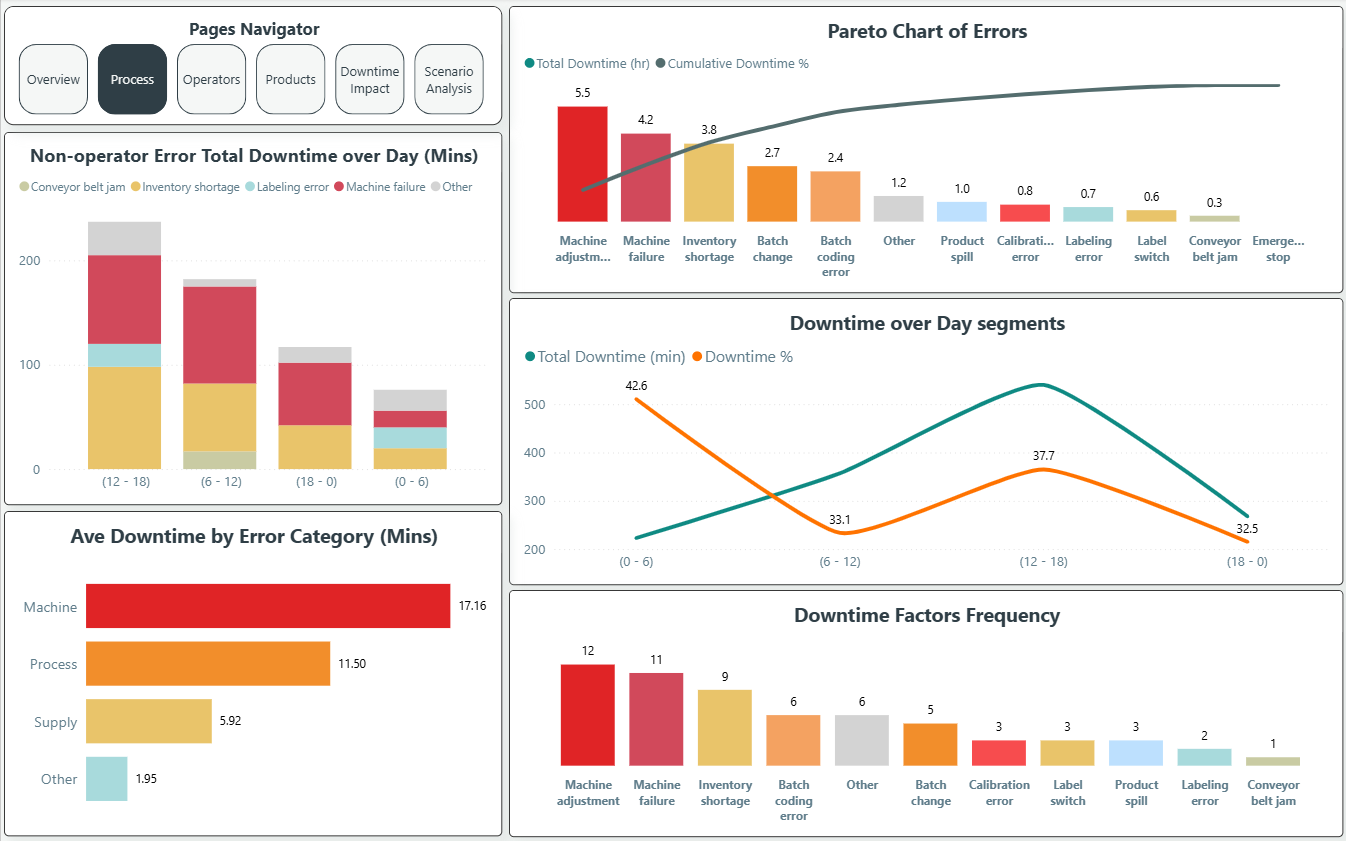

The page's visual inventory and layout, read from the dashboard file:
{"tool":"powerbi","page":{"name":"Process","canvas":[1380,870],"ordinal":1},"visuals":[{"type":"lineStackedColumnComboChart","title":"Pareto Chart of Errors","fields":{"Y":["#Measures.Total Downtime (hr)"],"Y2":["#Measures.Cumulative Downtime %"],"Category":["Downtime factors.Description"]},"box":[519.7,8.3,854.1,294],"z":0},{"type":"columnChart","title":"Non-operator Error Total Downtime over Day (Mins)","fields":{"Category":["Line productivity.Day segmentation"],"Series":["Downtime factors.Description"],"Y":["#Measures.Total Downtime (min)"]},"box":[3.1,136.7,510.4,382],"z":1000},{"type":"lineChart","title":"Downtime over Day segments","fields":{"Category":["Line productivity.Day segmentation"],"Y2":["#Measures.downtime percentage"],"Y":["#Measures.Total Downtime (min)"]},"box":[519.7,307.1,854.1,294],"z":2000},{"type":"barChart","title":"Ave Downtime by Error Category (Mins)","fields":{"Category":["Downtime factors.Cause Category"],"Y":["#Measures.Ave Downtime per Batch"]},"box":[3.1,524.9,510.4,333.4],"z":3000},{"type":"columnChart","title":"Downtime Factors Frequency","fields":{"Category":["Downtime factors.Description"],"Y":["#Measures.Downtime Events"]},"box":[520,605.9,853.6,252.8],"z":6000},{"type":"pageNavigator","title":"Pages Navigator","box":[3.1,8.3,510.4,122.2],"z":7000}]}

Visuals, with their boxes in screenshot pixels (x1, y1, x2, y2), scaled from the page's 1380x870 canvas onto the 1346x841 screenshot:
"Pareto Chart of Errors" lineStackedColumnComboChart: (left=507, top=8, right=1340, bottom=292)
"Non-operator Error Total Downtime over Day (Mins)" columnChart: (left=3, top=132, right=501, bottom=501)
"Downtime over Day segments" lineChart: (left=507, top=297, right=1340, bottom=581)
"Ave Downtime by Error Category (Mins)" barChart: (left=3, top=507, right=501, bottom=830)
"Downtime Factors Frequency" columnChart: (left=507, top=586, right=1340, bottom=830)
"Pages Navigator" pageNavigator: (left=3, top=8, right=501, bottom=126)
